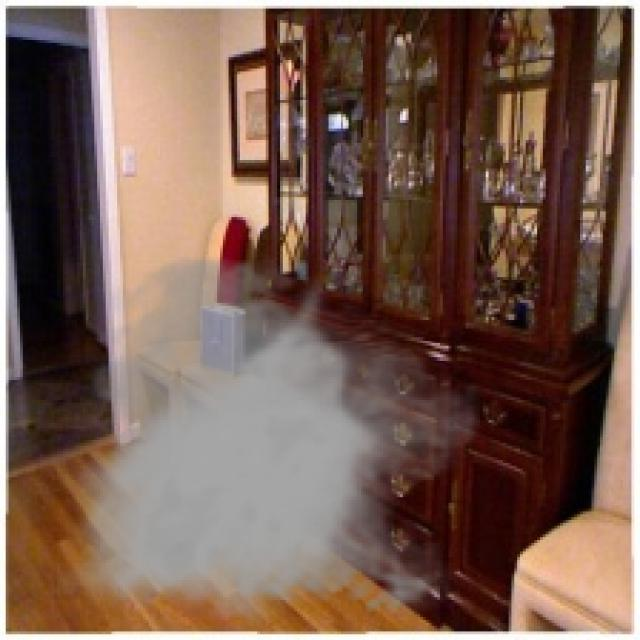smoke: (57, 251, 480, 626)
